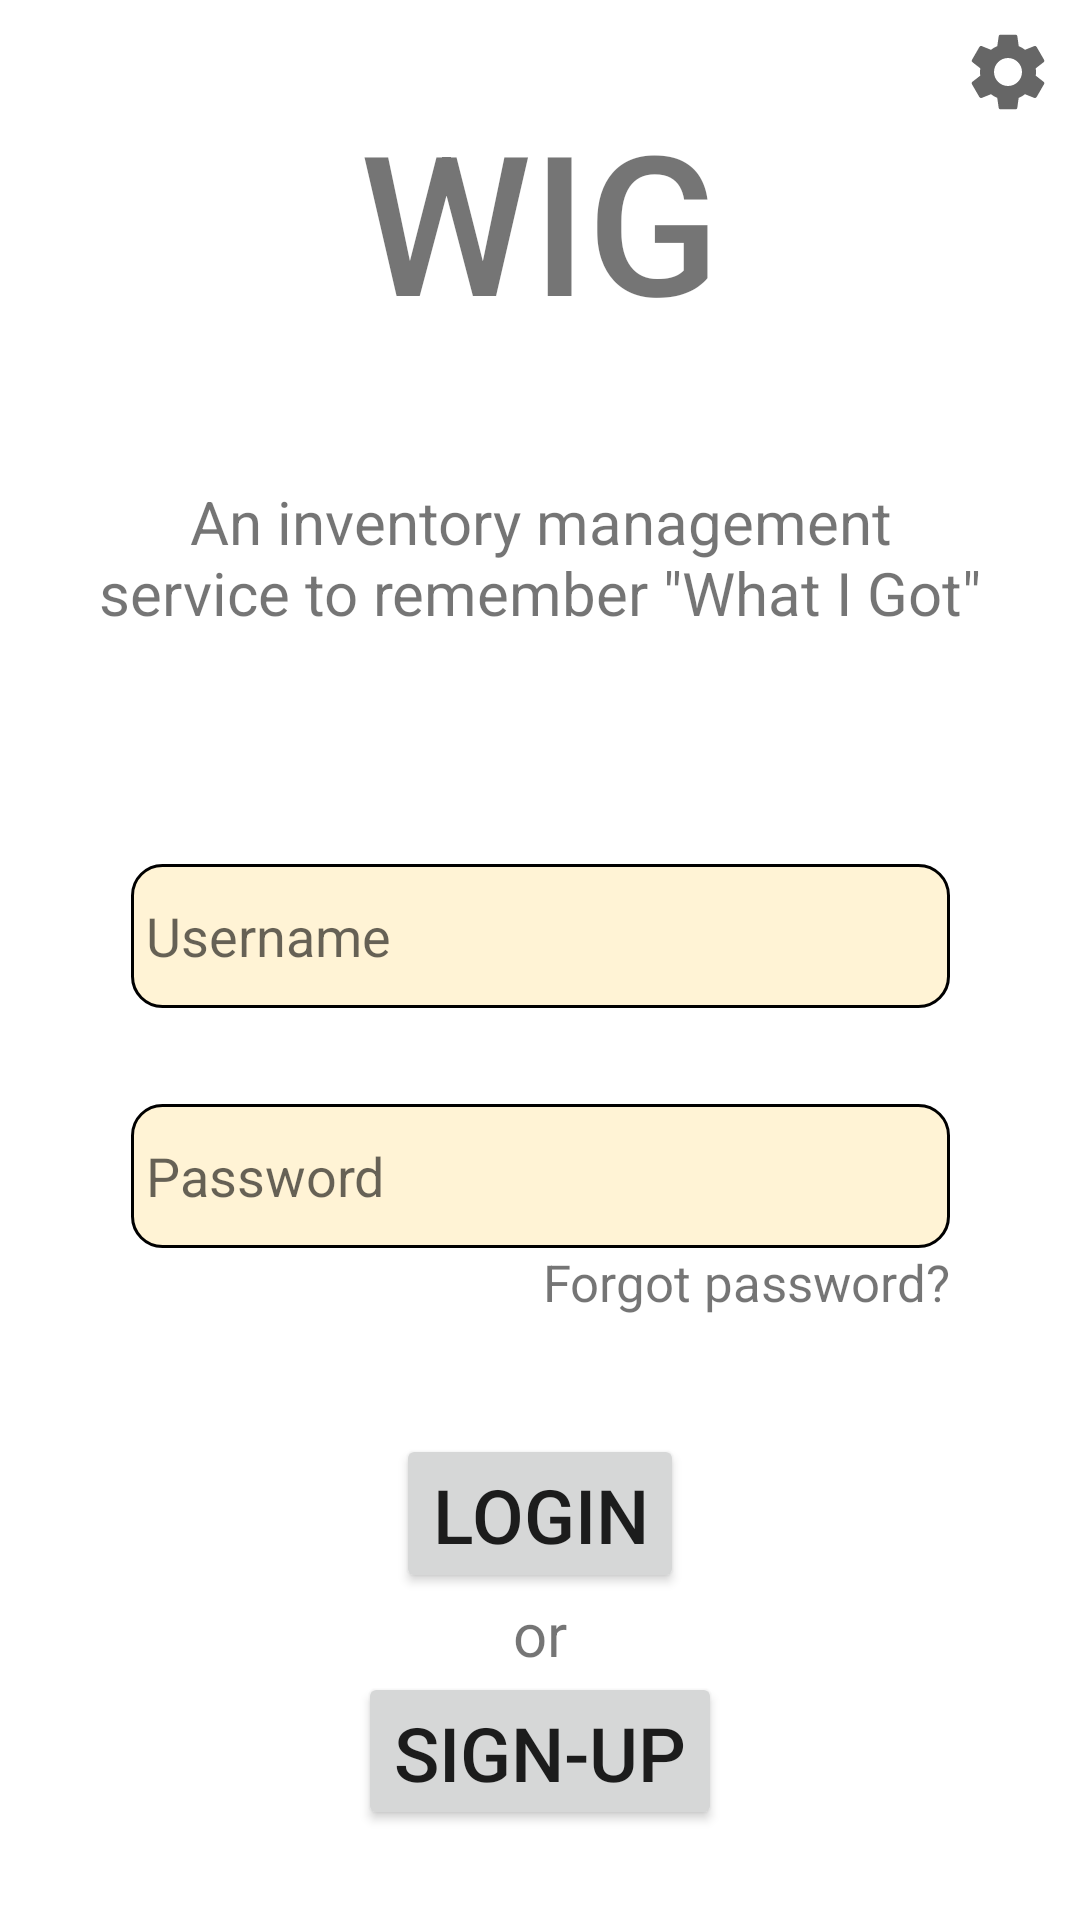

Icon bounding boxes for this 1080*1920 phone screenshot, format (x1, y1, x2, y2):
settings: (971, 34, 1045, 110)
